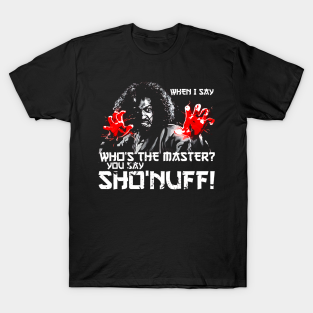design: (96, 78, 217, 191)
